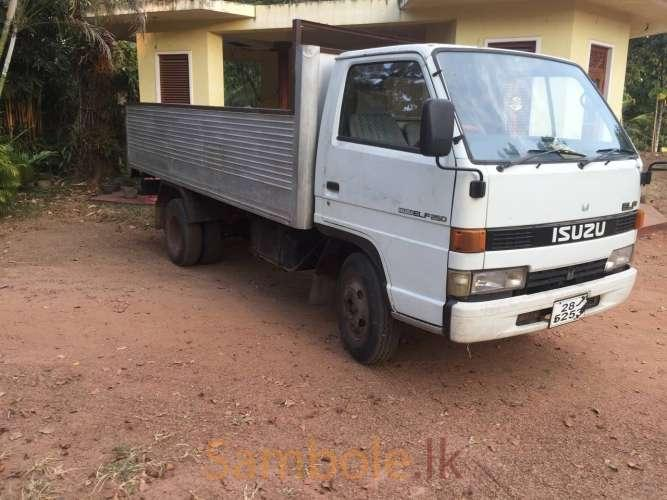truck: (125, 20, 648, 366)
